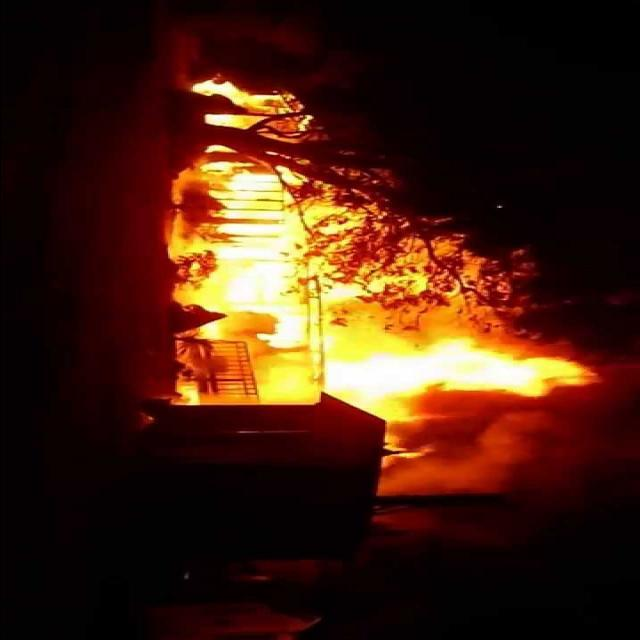Fire: (153, 75, 601, 463)
